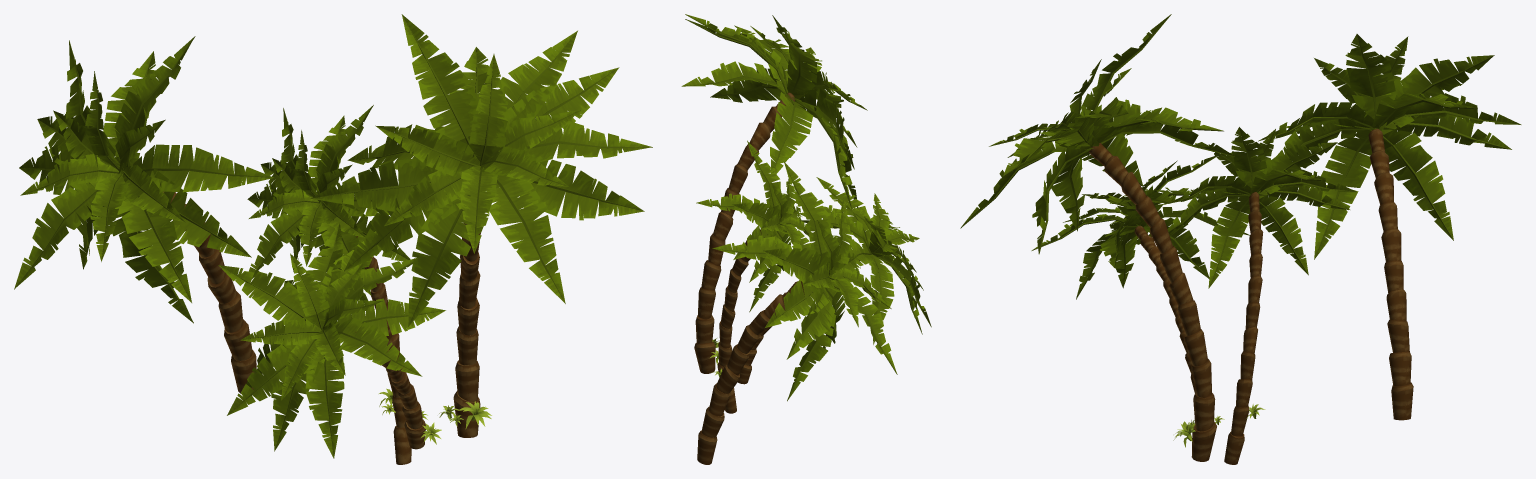
Rendered from Grupo_arboles.fbx.
The picture shows the model from 3 angles, left to right: view 1: azimuth 30°, elevation 25°; view 2: azimuth 150°, elevation 25°; view 3: azimuth 270°, elevation 25°; orthographic projection. The views are drawn at different scales.
Visible parts, largest first — view 1: island.001; view 2: island.001; view 3: island.001.
Boxes of the visible parts, box(x1,y1,x2,y2) form: island.001: box(14, 14, 652, 464); island.001: box(681, 14, 931, 464); island.001: box(960, 14, 1521, 464).
Bounding box in the file's own units: 904 × 945 × 1108.
